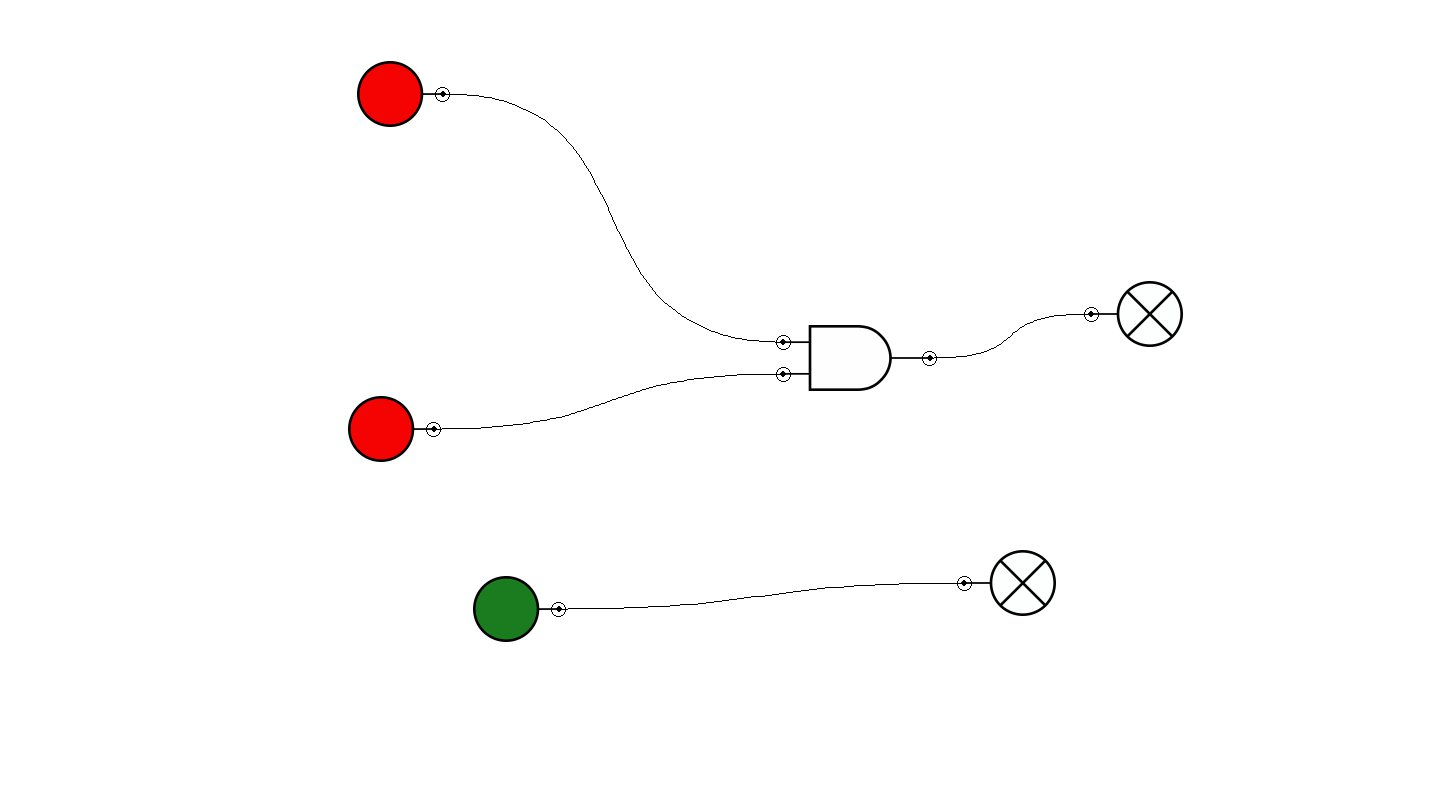and: (776, 325, 937, 391)
bulb: (1084, 281, 1183, 347), (957, 550, 1056, 616)
switch_False: (348, 396, 441, 462), (357, 61, 450, 127)
switch_True: (473, 576, 566, 642)
